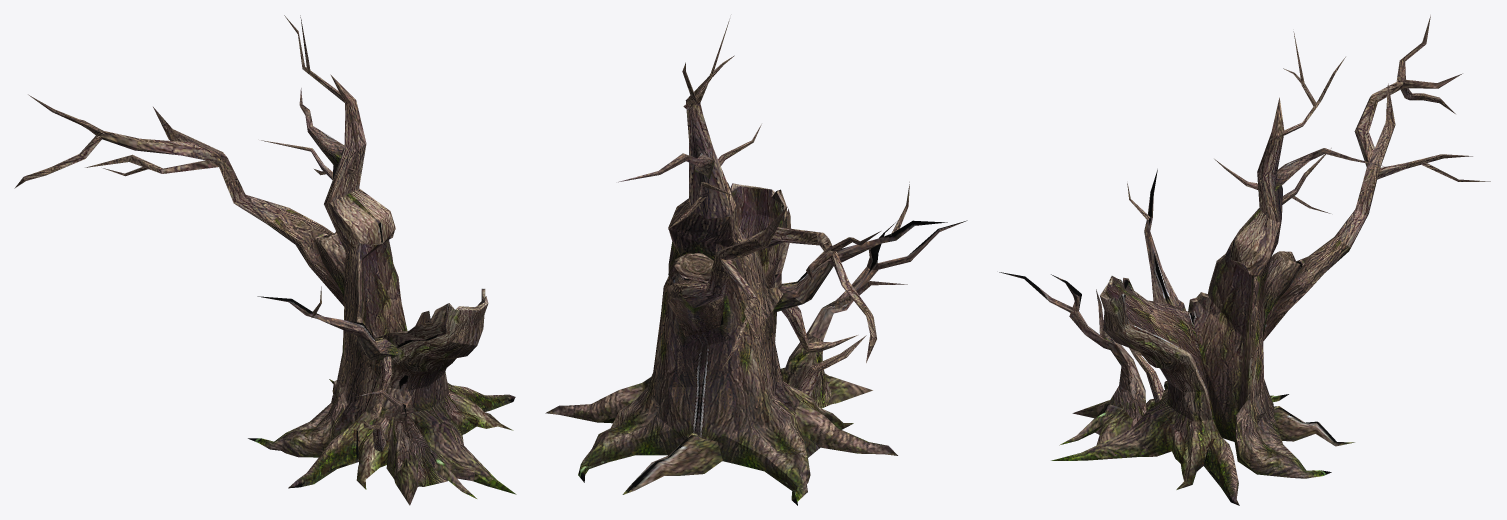
Rendered from Yland1_sg_01 Yland1.FBX.
3 renders of one model, left to right at view 1: azimuth 30°, elevation 25°; view 2: azimuth 150°, elevation 25°; view 3: azimuth 270°, elevation 25°, orthographic. The views are drawn at different scales.
Parts seen in each view (by area): view 1: Yland1_sg_01 Yland1; view 2: Yland1_sg_01 Yland1; view 3: Yland1_sg_01 Yland1.
Boxes of the visible parts, left/top/right/bottom form: Yland1_sg_01 Yland1: left=14, top=15, right=516, bottom=505; Yland1_sg_01 Yland1: left=545, top=19, right=967, bottom=505; Yland1_sg_01 Yland1: left=999, top=15, right=1490, bottom=505.
Size of the model in its own units: 8.57 by 8.7 by 9.9.
